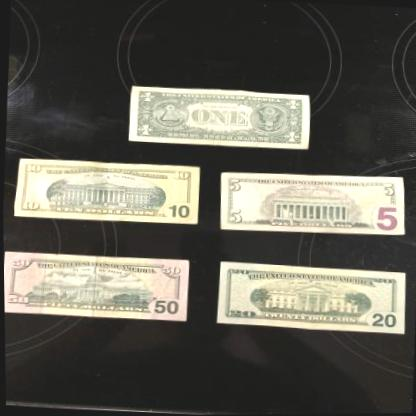fifty-back: (3, 250, 190, 322)
five-back: (217, 167, 408, 240)
one-back: (127, 85, 311, 151)
ten-back: (12, 156, 201, 226)
twenty-back: (214, 260, 407, 336)
